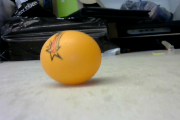PingPongBall: (39, 30, 102, 85)
